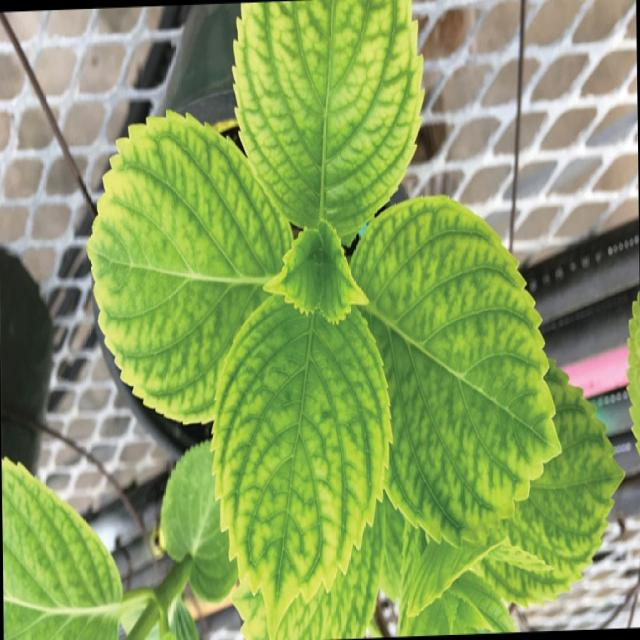Chlorosis: (96, 22, 587, 603)
